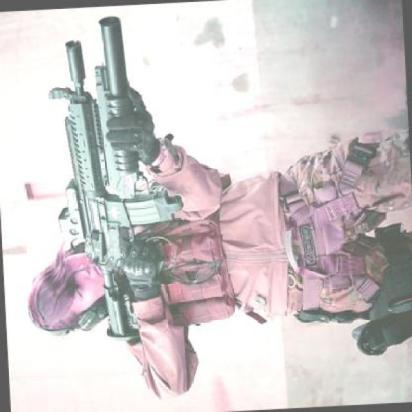Gun: (48, 16, 174, 346)
